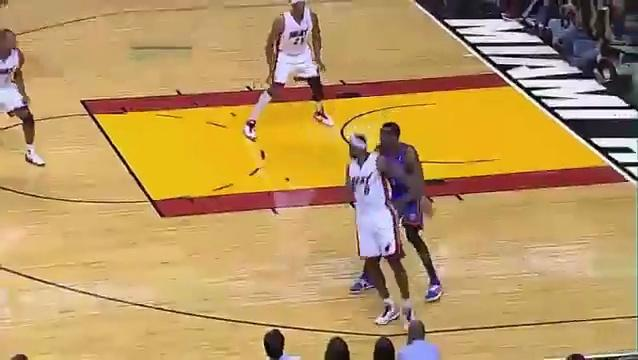Person: (365, 116, 447, 305), (339, 131, 415, 334), (241, 0, 335, 142), (0, 27, 51, 170)
